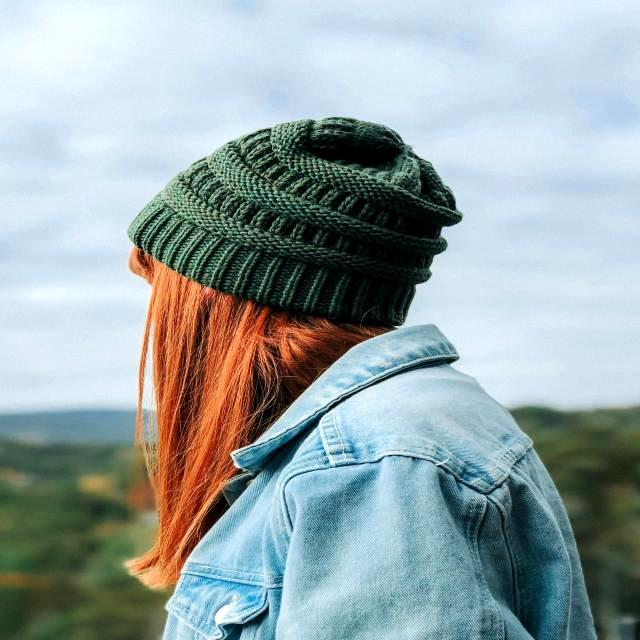no_hard_hat: (128, 117, 462, 326)
person: (129, 118, 596, 640)
